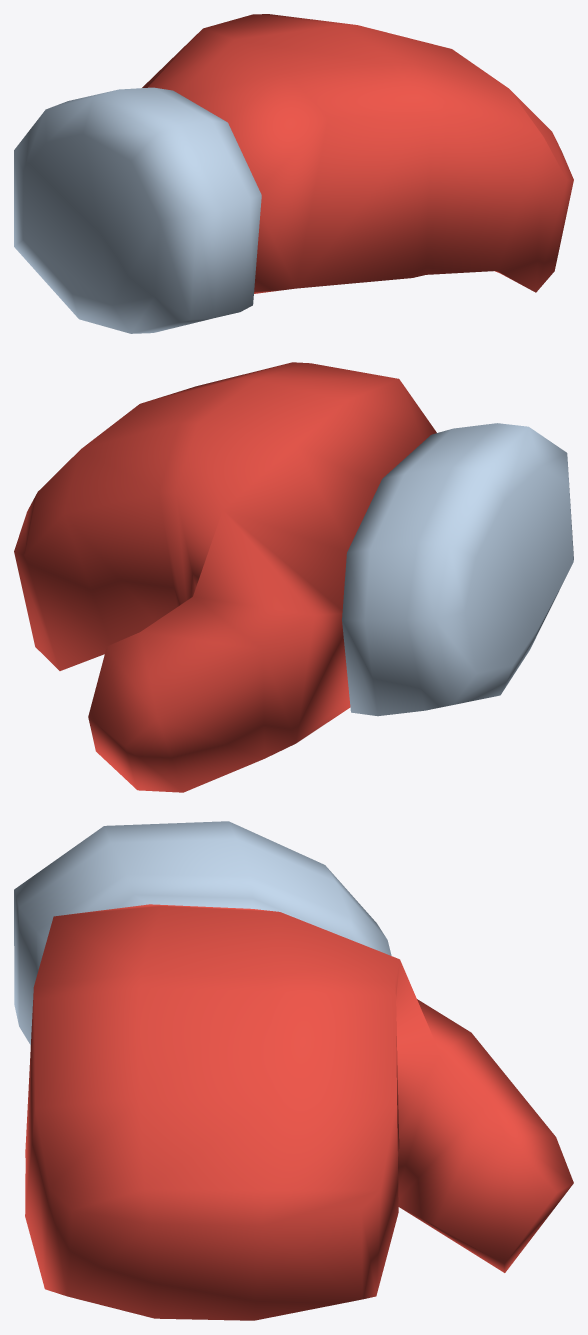
Rendered from glove.fbx.
3 renders of one model, top to bottom at view 1: azimuth 30°, elevation 25°; view 2: azimuth 150°, elevation 25°; view 3: azimuth 270°, elevation 25°, orthographic. The views are drawn at different scales.
Parts seen in each view (by area): view 1: Glove; view 2: Glove; view 3: Glove.
Boxes of the visible parts, x1=… form: Glove: x1=14, y1=14, x2=573, y2=333; Glove: x1=14, y1=362, x2=573, y2=792; Glove: x1=14, y1=821, x2=573, y2=1320.
Bounding box in the file's own units: 39.35 × 23.22 × 35.24.
